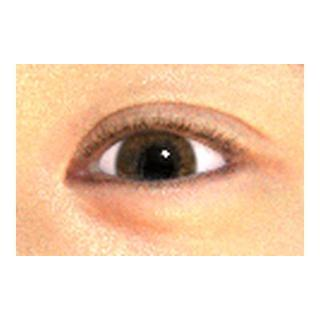pupil: (139, 147, 173, 182)
